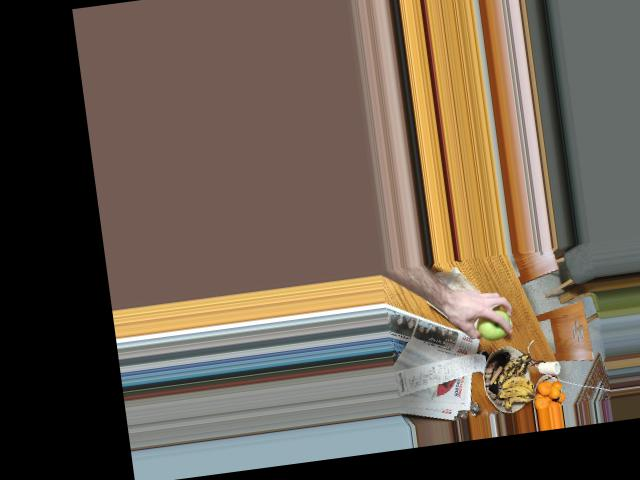apple: (473, 308, 510, 340)
